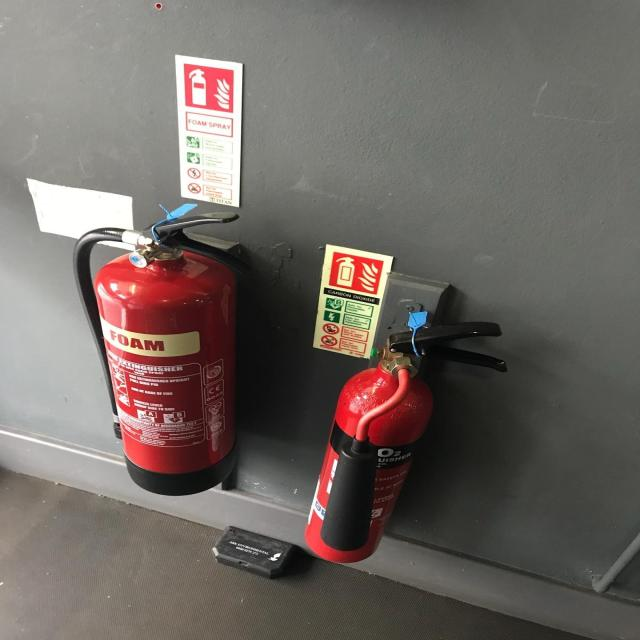fire_extinguisher: (71, 208, 262, 500), (299, 320, 514, 565)
